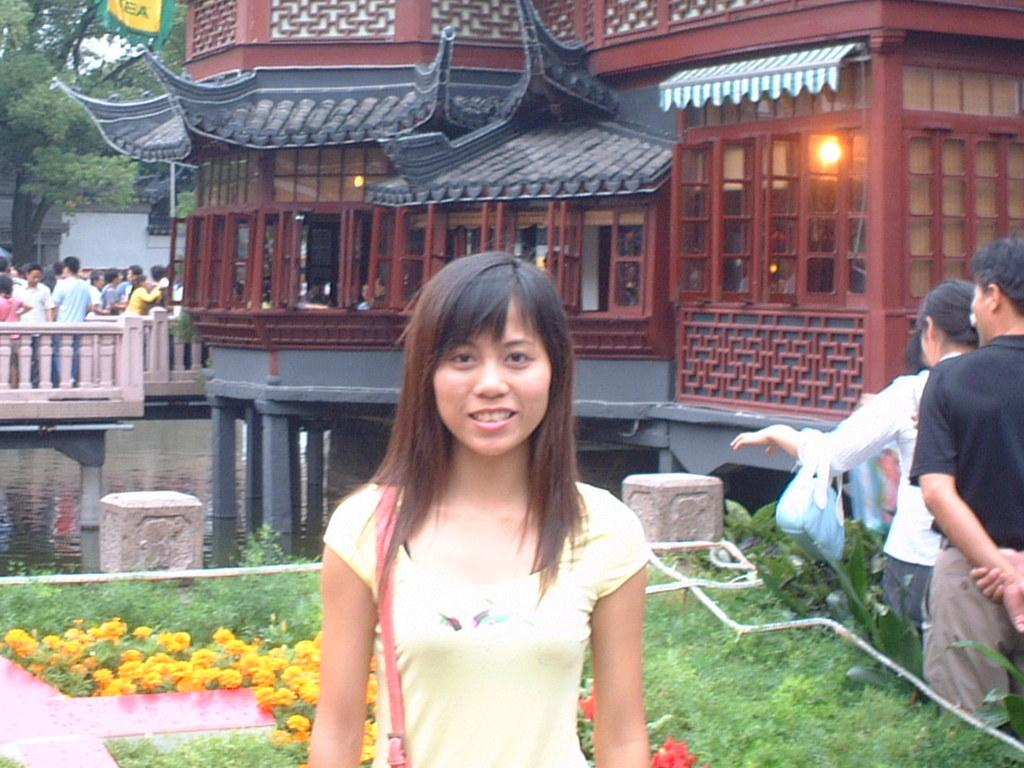Sem Máscara: (426, 288, 554, 455), (963, 260, 987, 342)
